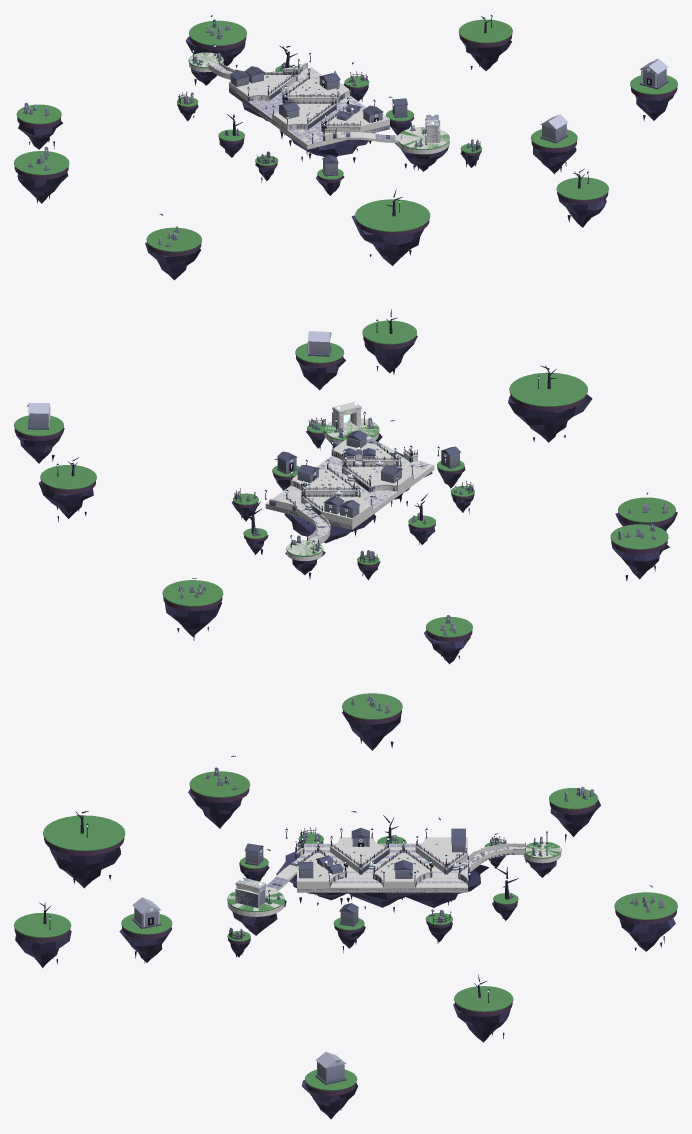
3 views of the same model, one above another, from view 1: azimuth 30°, elevation 25°; view 2: azimuth 150°, elevation 25°; view 3: azimuth 270°, elevation 25° (orthographic). The views are drawn at different scales.
Parts seen in each view (by area): view 1: V_moss, V_rock, C_0, V_stone, V_dirt, V_stone_dark, V_iron, V_flag, V_stone_light, V_beam_dark; view 2: V_moss, V_rock, C_0, V_stone, V_dirt, V_stone_dark, V_iron, V_flag, V_stone_light, C_1; view 3: V_moss, V_rock, C_0, V_stone, V_dirt, V_stone_dark, V_iron, V_flag, V_stone_light.
Boxes of the visible parts, x1,y1,x2,y2 form: V_moss: (14,19,677,251); V_rock: (17,34,674,280); C_0: (189,52,449,154); V_stone: (24,19,666,245); V_dirt: (14,34,677,256); V_stone_dark: (22,25,668,246); V_iron: (178,15,588,212); V_flag: (250,68,364,143); V_stone_light: (229,59,668,145); V_beam_dark: (227,16,584,216); V_moss: (14,320,675,637); V_rock: (16,335,677,664); C_0: (265,418,434,560); V_stone: (29,341,666,634); V_dirt: (14,336,675,642); V_stone_dark: (28,346,667,635); V_iron: (56,319,539,562); V_flag: (276,456,428,514); V_stone_light: (28,331,414,519); C_1: (332,401,361,429); V_moss: (14,693,677,1090); V_rock: (15,712,675,1119); C_0: (227,837,561,916); V_stone: (134,694,663,1082); V_dirt: (14,710,676,1095); V_stone_dark: (132,697,664,1084); V_iron: (49,823,547,1002); V_flag: (298,844,464,883); V_stone_light: (132,843,467,1068).
Size of the model in its own units: 170 by 27.96 by 140.
